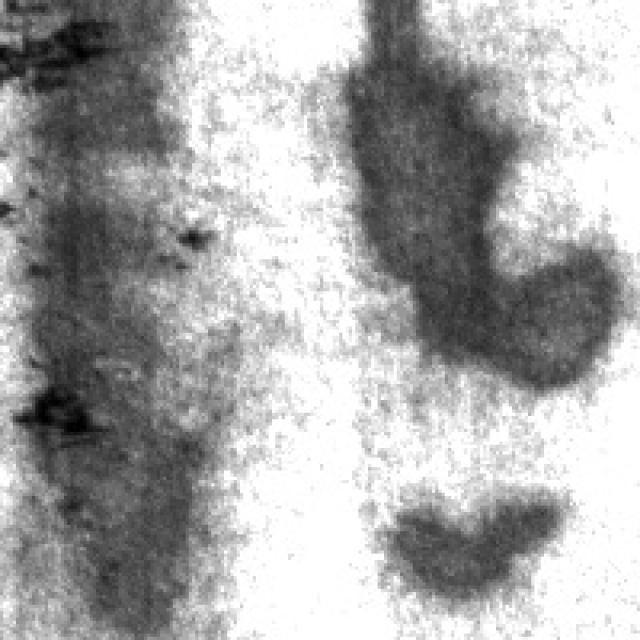patches: (342, 0, 608, 384), (22, 195, 202, 627), (22, 0, 192, 202), (394, 474, 576, 602)
